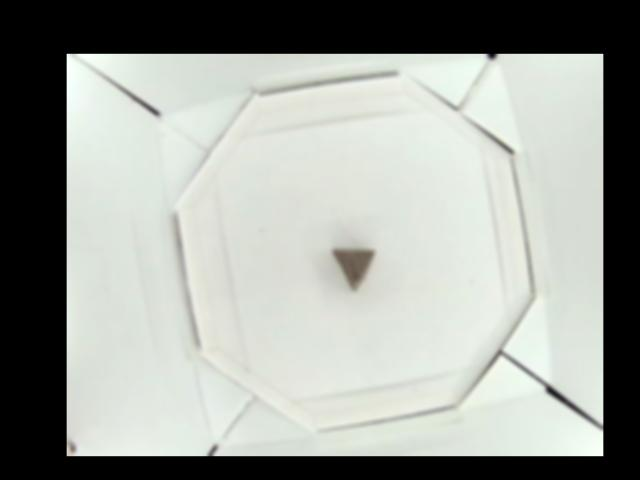China: (330, 246, 376, 288)
